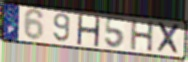5: (104, 15, 127, 50)
6: (23, 8, 47, 43)
9: (52, 13, 71, 43)
H: (75, 13, 102, 49), (130, 19, 155, 53)
X: (155, 21, 182, 57)
